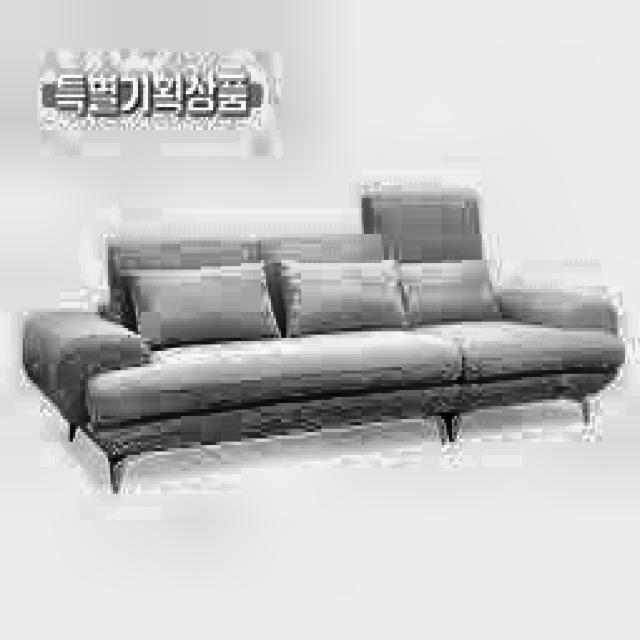sofa: (12, 198, 620, 494)
